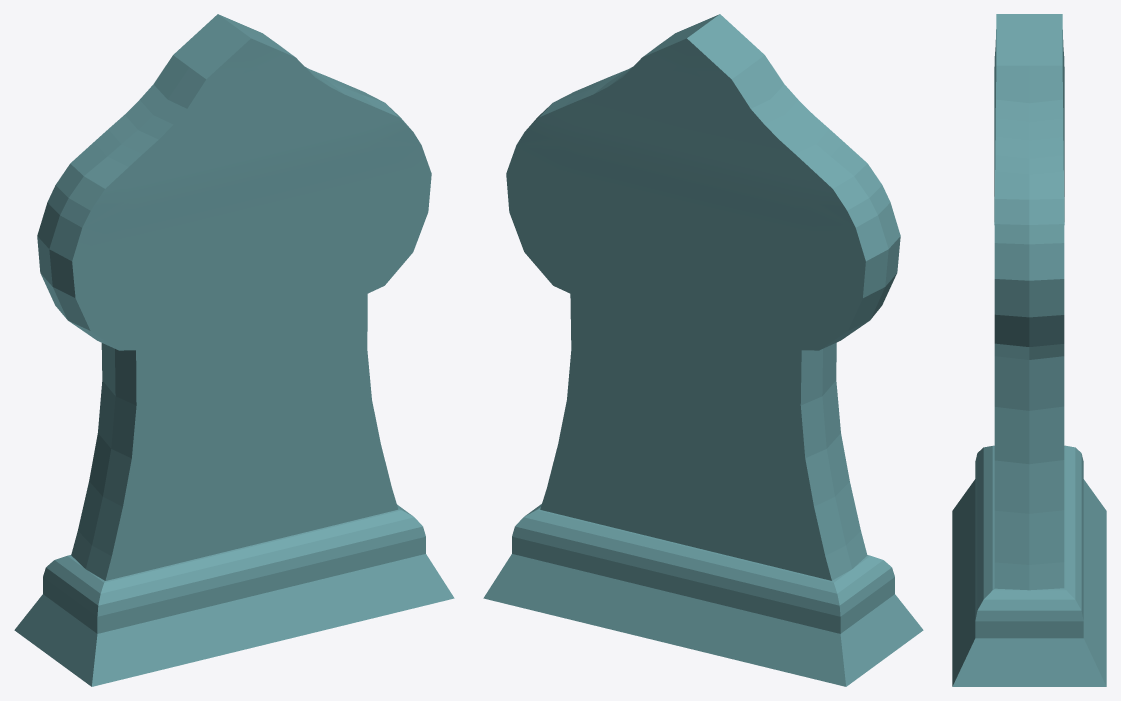
File: MOD_TombStone1.fbx
3 renders of one model, left to right at view 1: azimuth 30°, elevation 25°; view 2: azimuth 150°, elevation 25°; view 3: azimuth 270°, elevation 25°, orthographic.
Parts seen in each view (by area): view 1: TombStone_1; view 2: TombStone_1; view 3: TombStone_1.
Part boxes in pixels (x1,y1,x2,y2): TombStone_1: (14, 14, 454, 686); TombStone_1: (483, 14, 923, 686); TombStone_1: (952, 14, 1106, 686).
Size of the model in its own units: 326 by 495 by 118.
